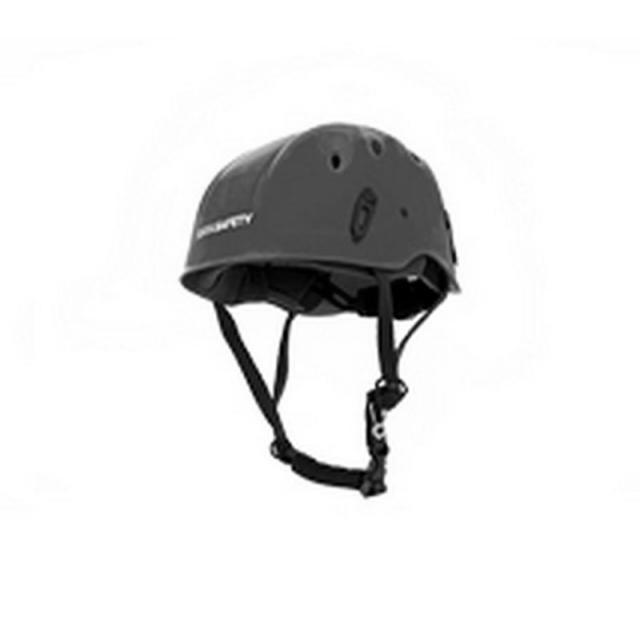safety_helmet: (179, 123, 463, 499)
